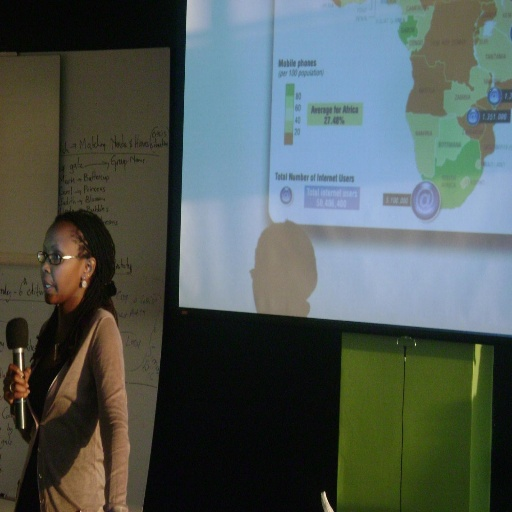hand: (0, 359, 34, 405)
